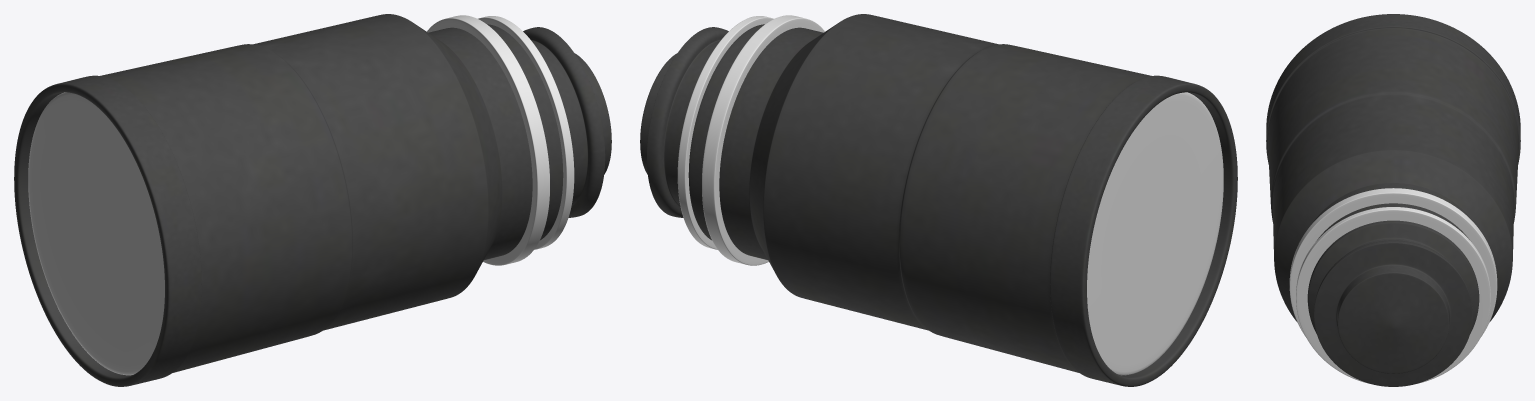
The model's file is lens_50mm.fbx.
3 renders of one model, left to right at view 1: azimuth 30°, elevation 25°; view 2: azimuth 150°, elevation 25°; view 3: azimuth 270°, elevation 25°, orthographic. The views are drawn at different scales.
Parts seen in each view (by area): view 1: Lens, Glass, Wheel_1, Wheel_2; view 2: Lens, Glass, Wheel_1, Wheel_2; view 3: Lens, Wheel_2, Wheel_1.
Part boxes in pixels (bbox=[...]): Lens: bbox=[14, 14, 611, 386]; Glass: bbox=[28, 92, 164, 375]; Wheel_1: bbox=[427, 15, 549, 265]; Wheel_2: bbox=[478, 16, 574, 249]; Lens: bbox=[640, 14, 1237, 386]; Glass: bbox=[1087, 92, 1223, 375]; Wheel_1: bbox=[702, 15, 824, 265]; Wheel_2: bbox=[677, 16, 773, 249]; Lens: bbox=[1266, 14, 1520, 386]; Wheel_2: bbox=[1296, 207, 1490, 383]; Wheel_1: bbox=[1289, 188, 1497, 336].
Bounding box in the file's own units: 119 × 65.02 × 65.02.
